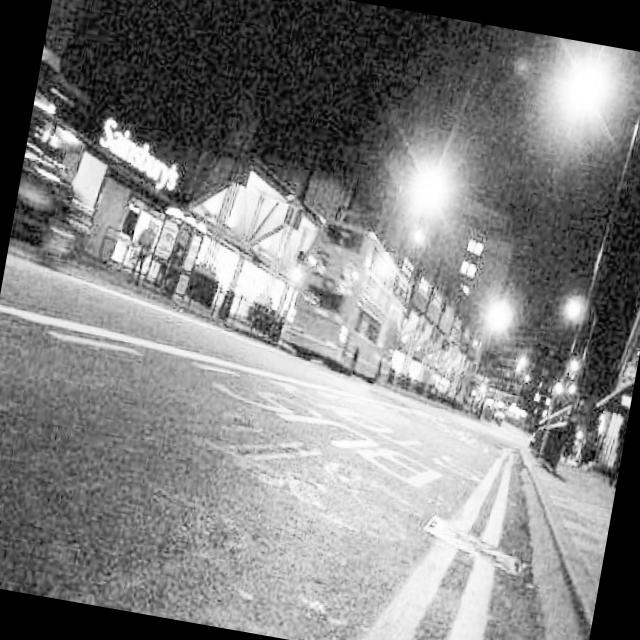Bus: (276, 194, 437, 423)
